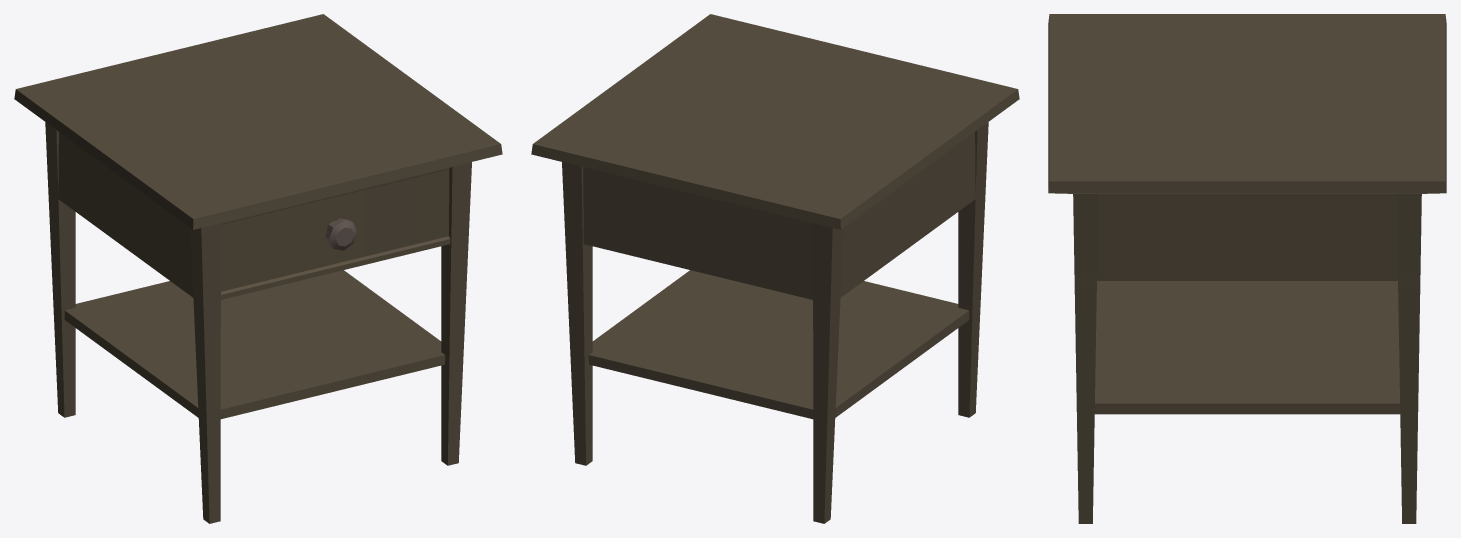
Rendered from Night Stand 2.glb.
3 views of the same model, side by side, from view 1: azimuth 30°, elevation 25°; view 2: azimuth 150°, elevation 25°; view 3: azimuth 270°, elevation 25° (orthographic). The views are drawn at different scales.
Parts seen in each view (by area): view 1: NightStand_2_Cube.005; view 2: NightStand_2_Cube.005; view 3: NightStand_2_Cube.005.
Boxes of the visible parts, <box> form: NightStand_2_Cube.005: <box>14,14,502,523</box>; NightStand_2_Cube.005: <box>531,14,1019,523</box>; NightStand_2_Cube.005: <box>1048,14,1446,523</box>.
Bounding box in the file's own units: 0.9522 × 0.9453 × 0.9522.
